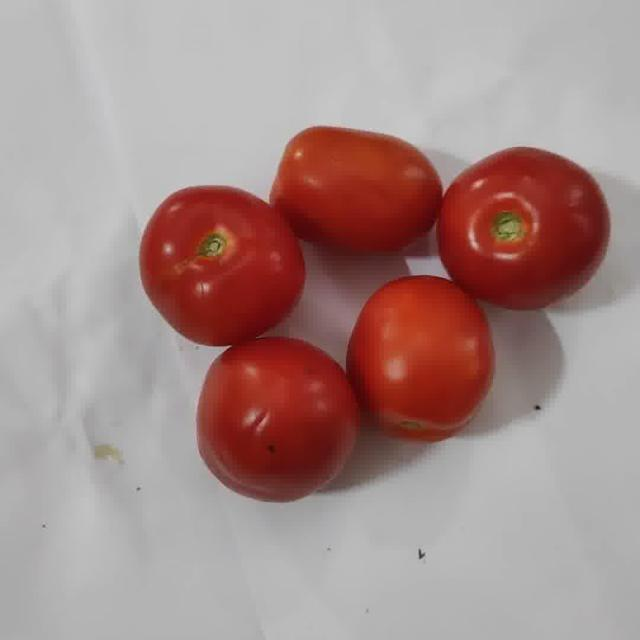Tomato: (437, 148, 610, 309), (196, 337, 359, 501), (140, 186, 304, 346), (347, 276, 492, 441), (271, 126, 442, 252)
